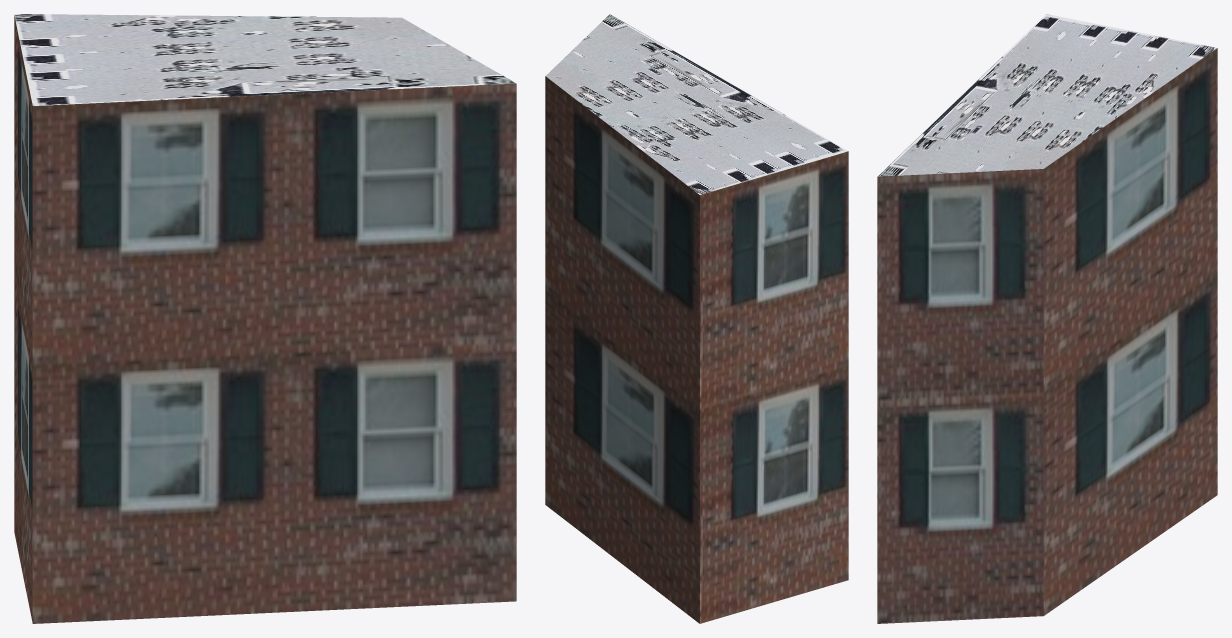
File: ResTex__5071.fbx
The picture shows the model from 3 angles, left to right: view 1: azimuth 30°, elevation 25°; view 2: azimuth 150°, elevation 25°; view 3: azimuth 270°, elevation 25°; orthographic projection. The views are drawn at different scales.
Parts seen in each view (by area): view 1: CityEngineMaterial_14_m, CityEngineMaterial_8_m; view 2: CityEngineMaterial_14_m, CityEngineMaterial_8_m; view 3: CityEngineMaterial_14_m, CityEngineMaterial_8_m.
Boxes of the visible parts, x1,y1,x2,y2 form: CityEngineMaterial_14_m: [14, 15, 516, 623]; CityEngineMaterial_8_m: [14, 14, 516, 105]; CityEngineMaterial_14_m: [545, 76, 848, 623]; CityEngineMaterial_8_m: [546, 14, 847, 194]; CityEngineMaterial_14_m: [877, 48, 1217, 623]; CityEngineMaterial_8_m: [878, 14, 1216, 176].
Bounding box in the file's own units: 4.68 × 6 × 4.14.
Materials: 2 (2 with a texture image).
